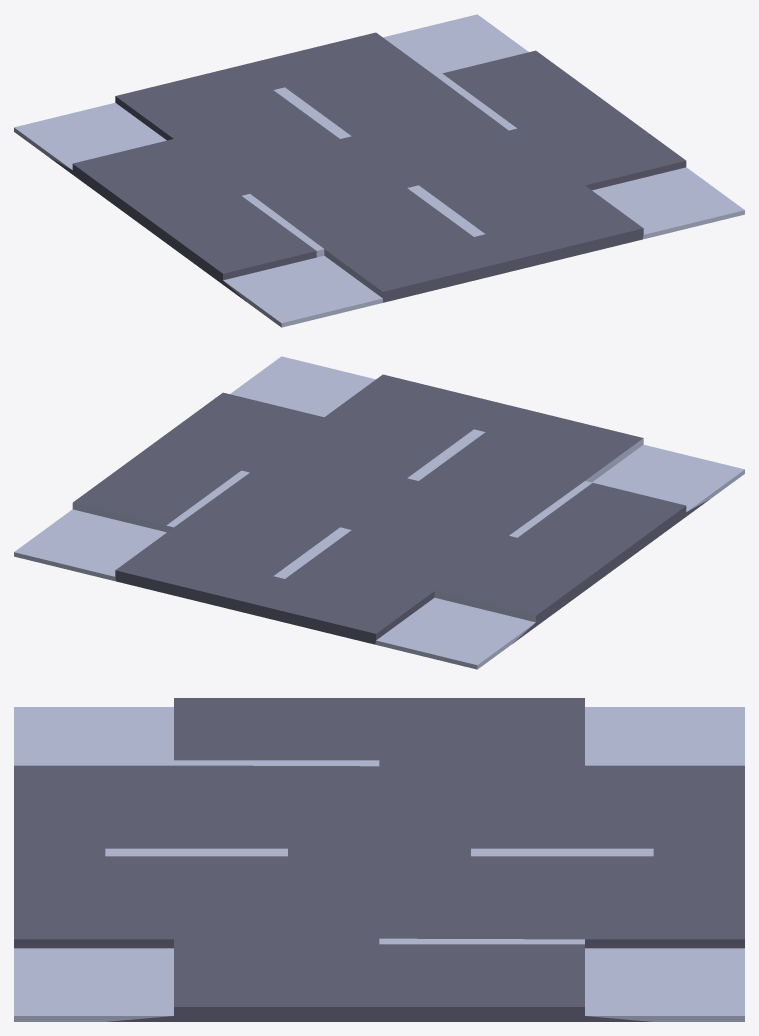
The model's file is road2.glb.
3 views of the same model, one above another, from view 1: azimuth 30°, elevation 25°; view 2: azimuth 150°, elevation 25°; view 3: azimuth 270°, elevation 25° (orthographic). The views are drawn at different scales.
Parts seen in each view (by area): view 1: Cube; view 2: Cube; view 3: Cube.
Boxes of the visible parts, x1,y1,x2,y2 form: Cube: [14, 14, 744, 327]; Cube: [14, 356, 744, 669]; Cube: [14, 698, 744, 1021].
Size of the model in its own units: 2.2 by 0.05 by 2.2.
